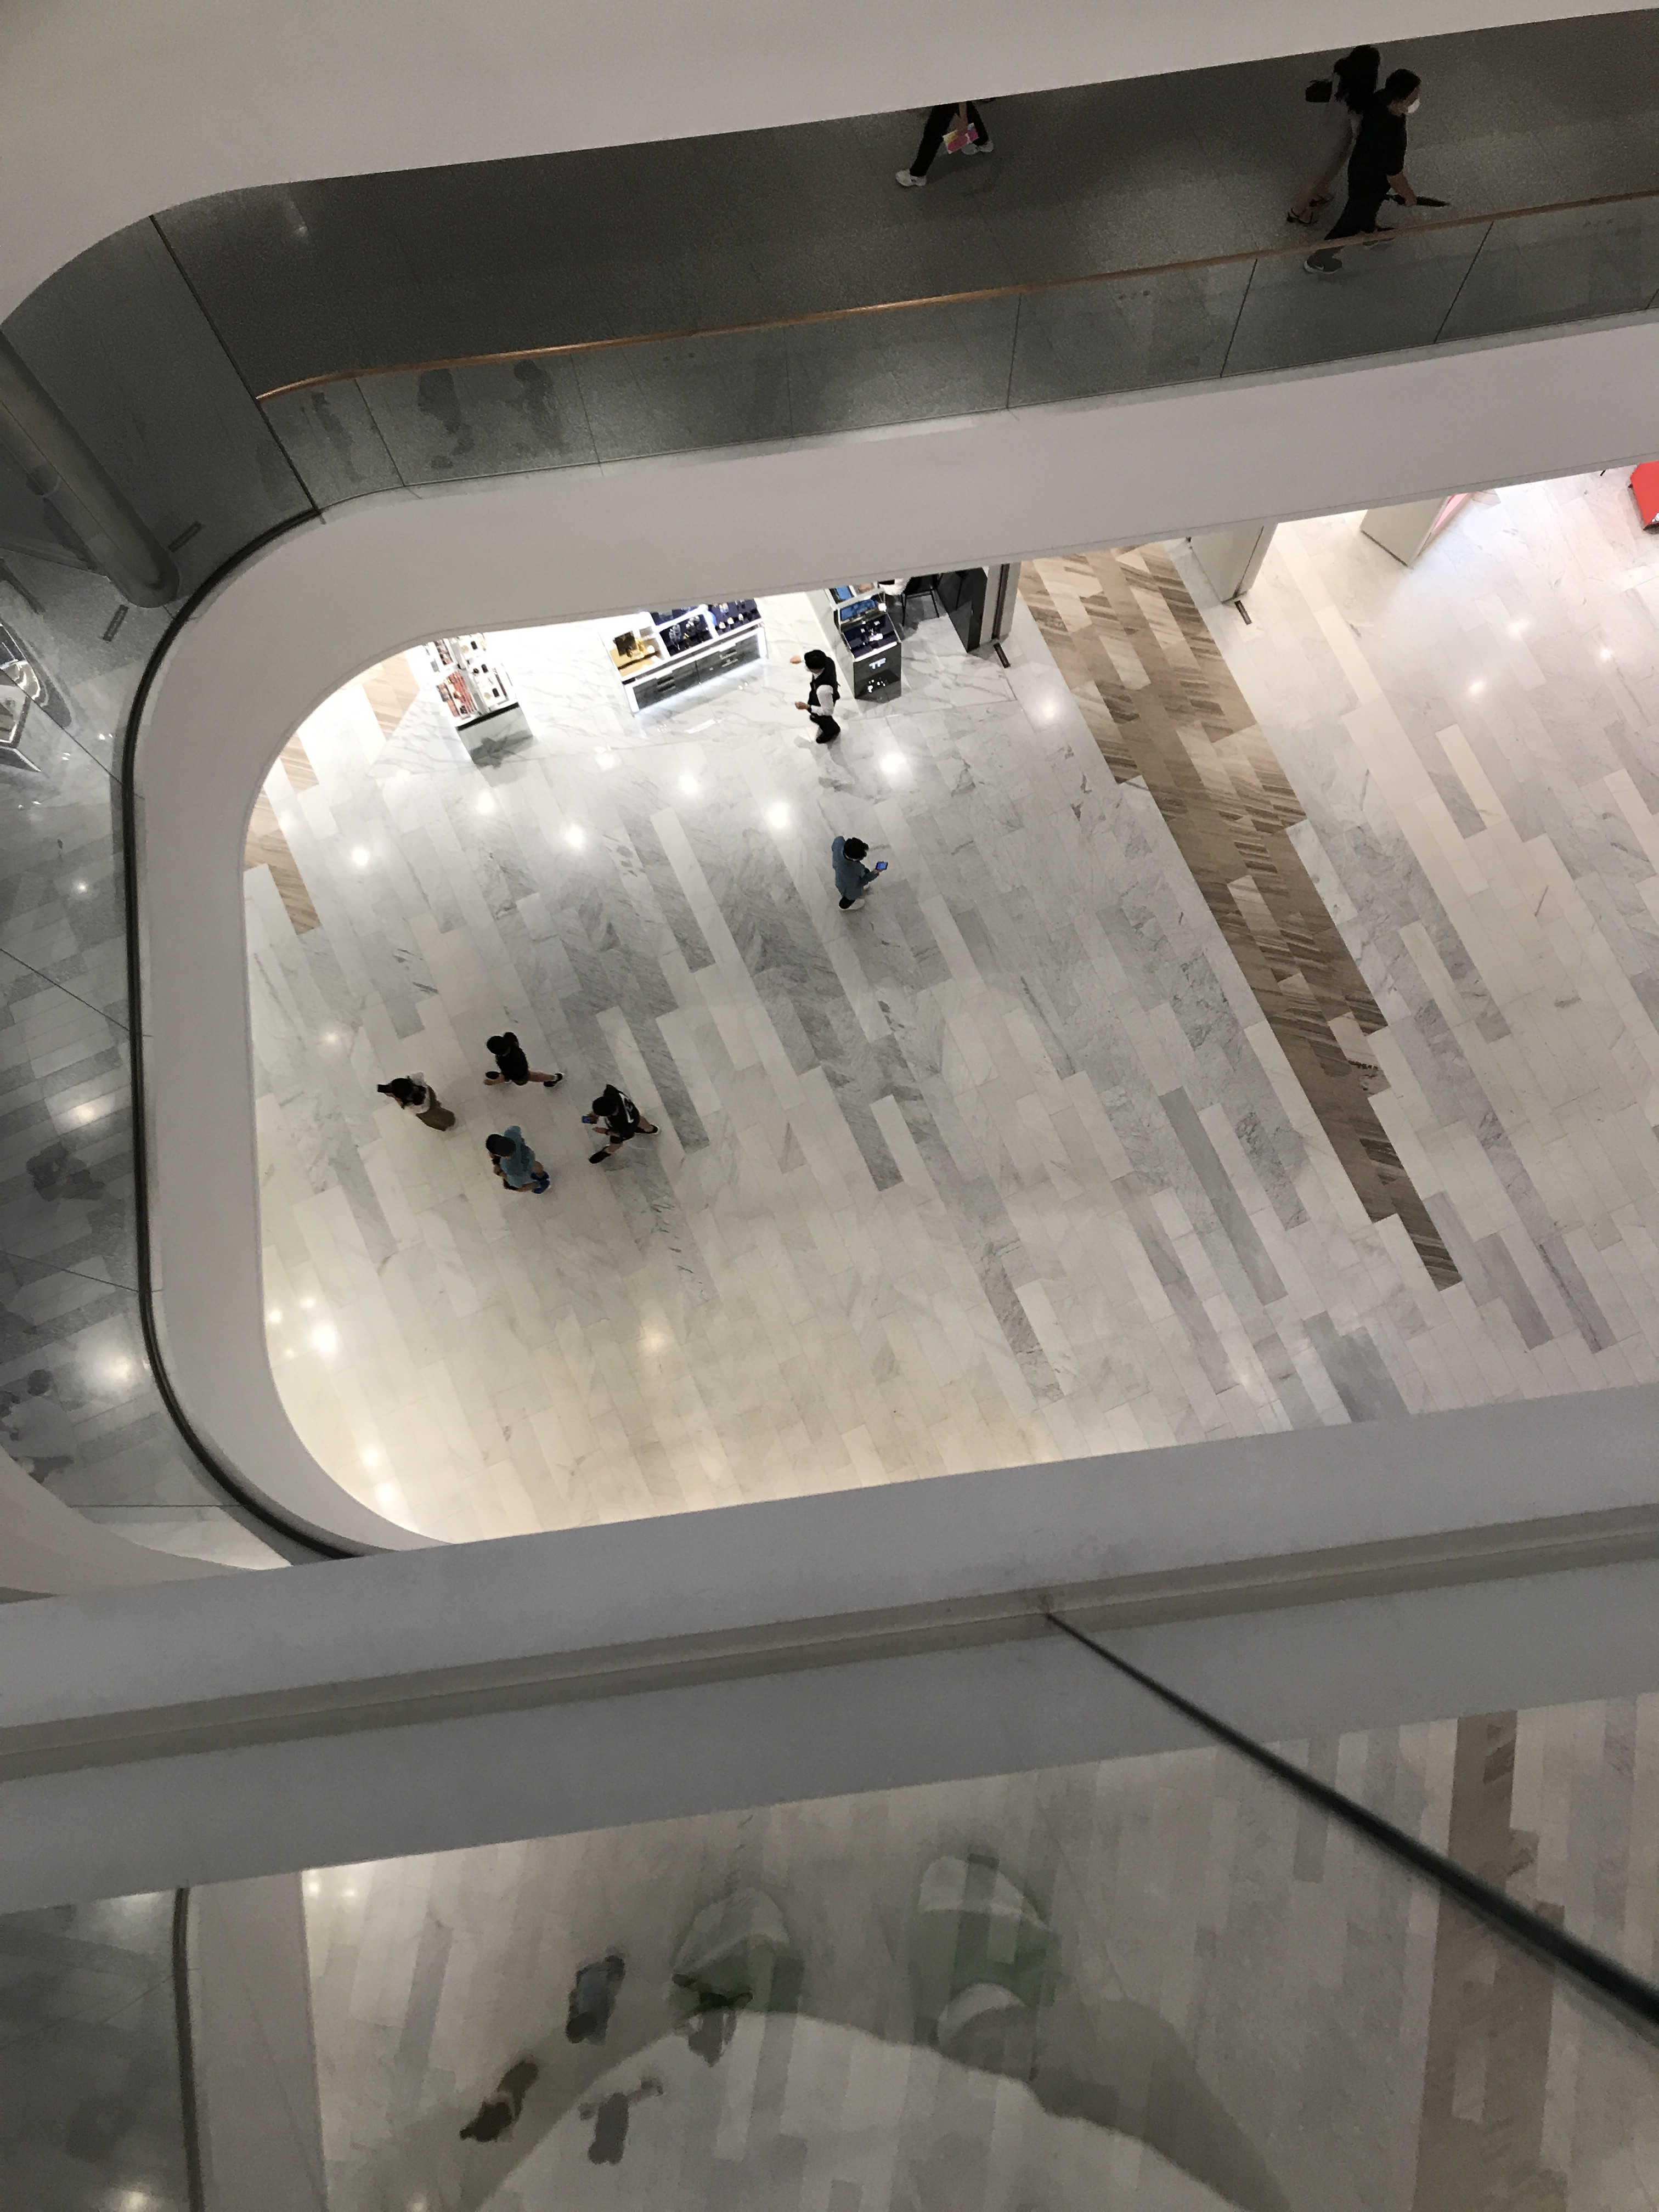person: (1302, 66, 1421, 275), (1284, 45, 1381, 229), (894, 98, 996, 192), (582, 1082, 662, 1169), (373, 1068, 459, 1136), (793, 646, 846, 745), (483, 1122, 549, 1197), (484, 1026, 560, 1088), (827, 832, 882, 911)
